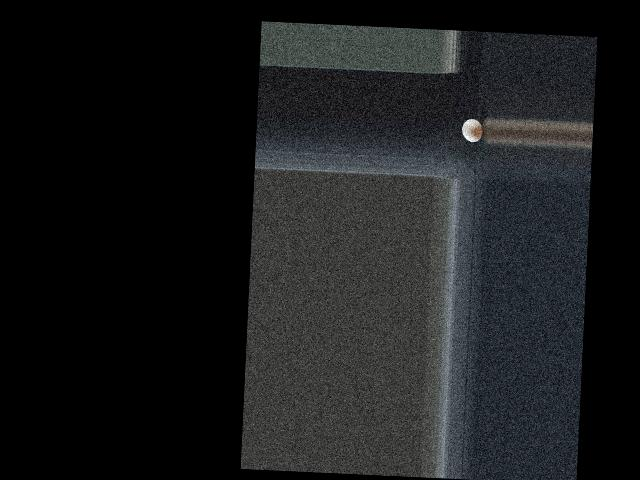egg: (461, 119, 483, 143)
